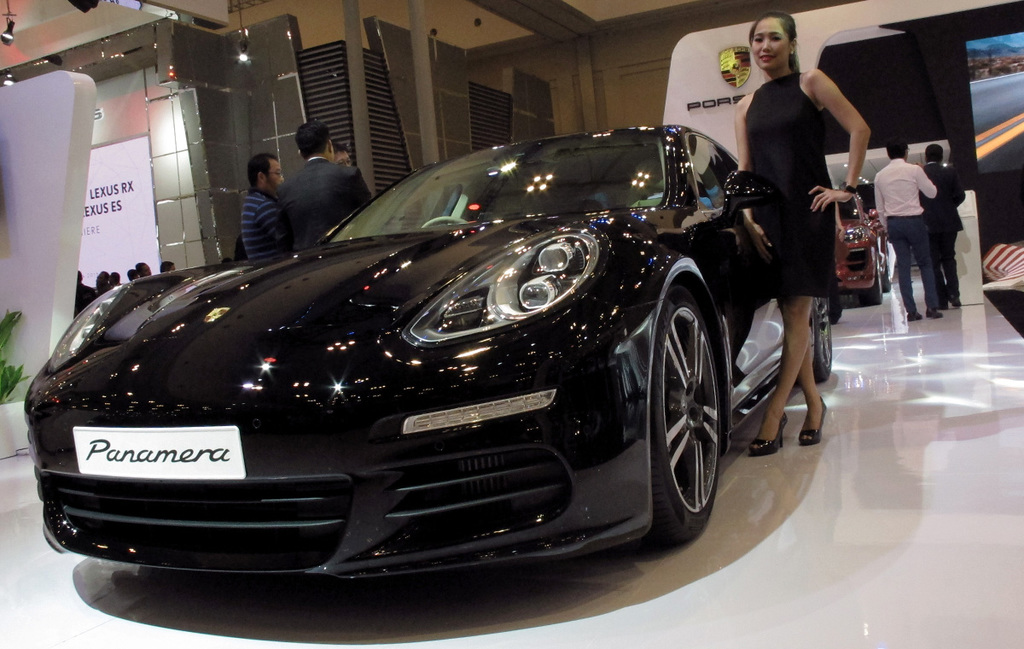Person: (270, 115, 375, 252), (872, 130, 938, 323), (914, 137, 968, 307), (76, 255, 172, 313), (239, 149, 279, 258)
